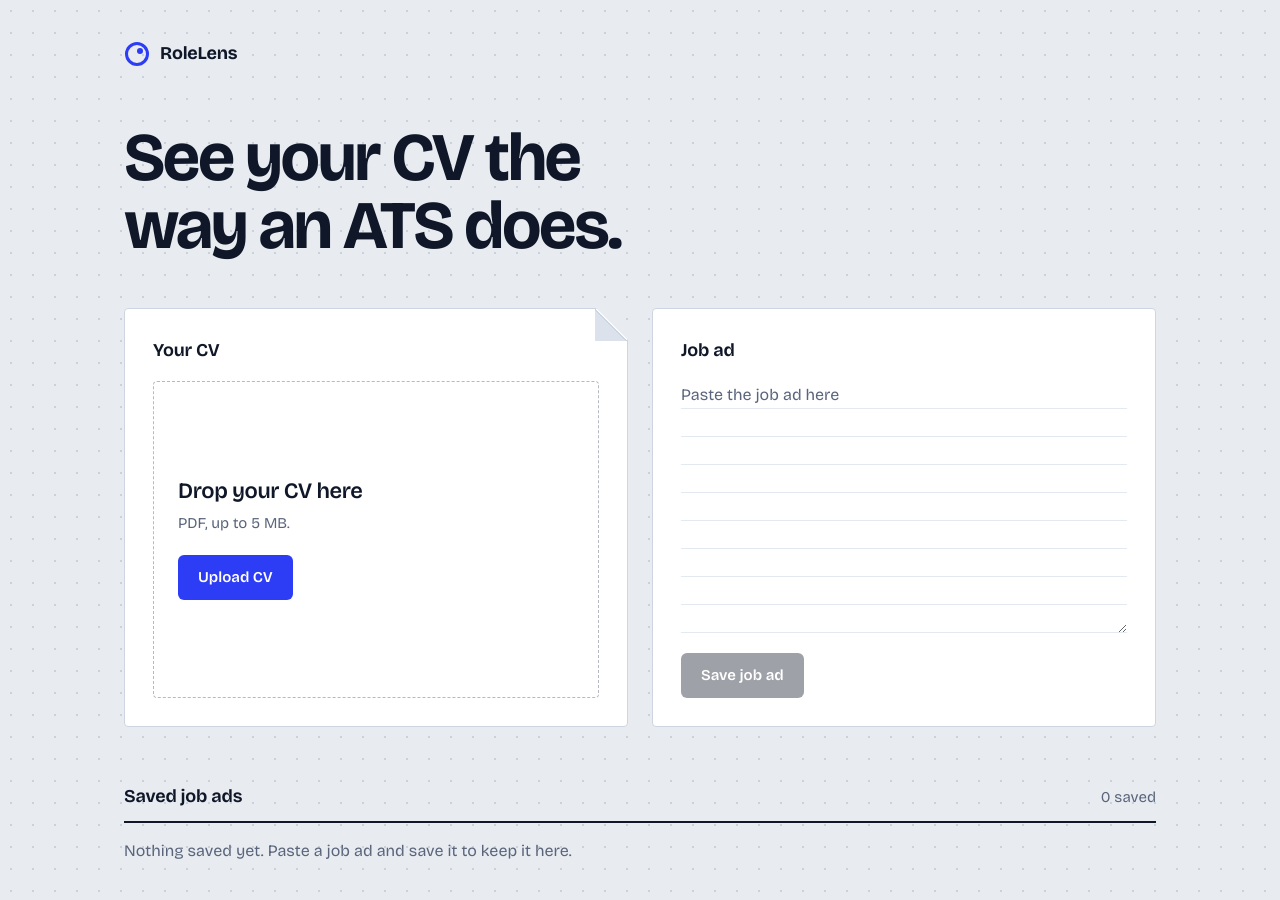
Scenario: saving a job ad › saves the trimmed text as a pasted ad, empties the box and reloads the list
This screenshot has width=1280, height=900.
Type "  Backend Engineer at Acme  " into the text box labelled "Job ad" at [904, 507], box left=681, top=381, right=1127, bottom=633
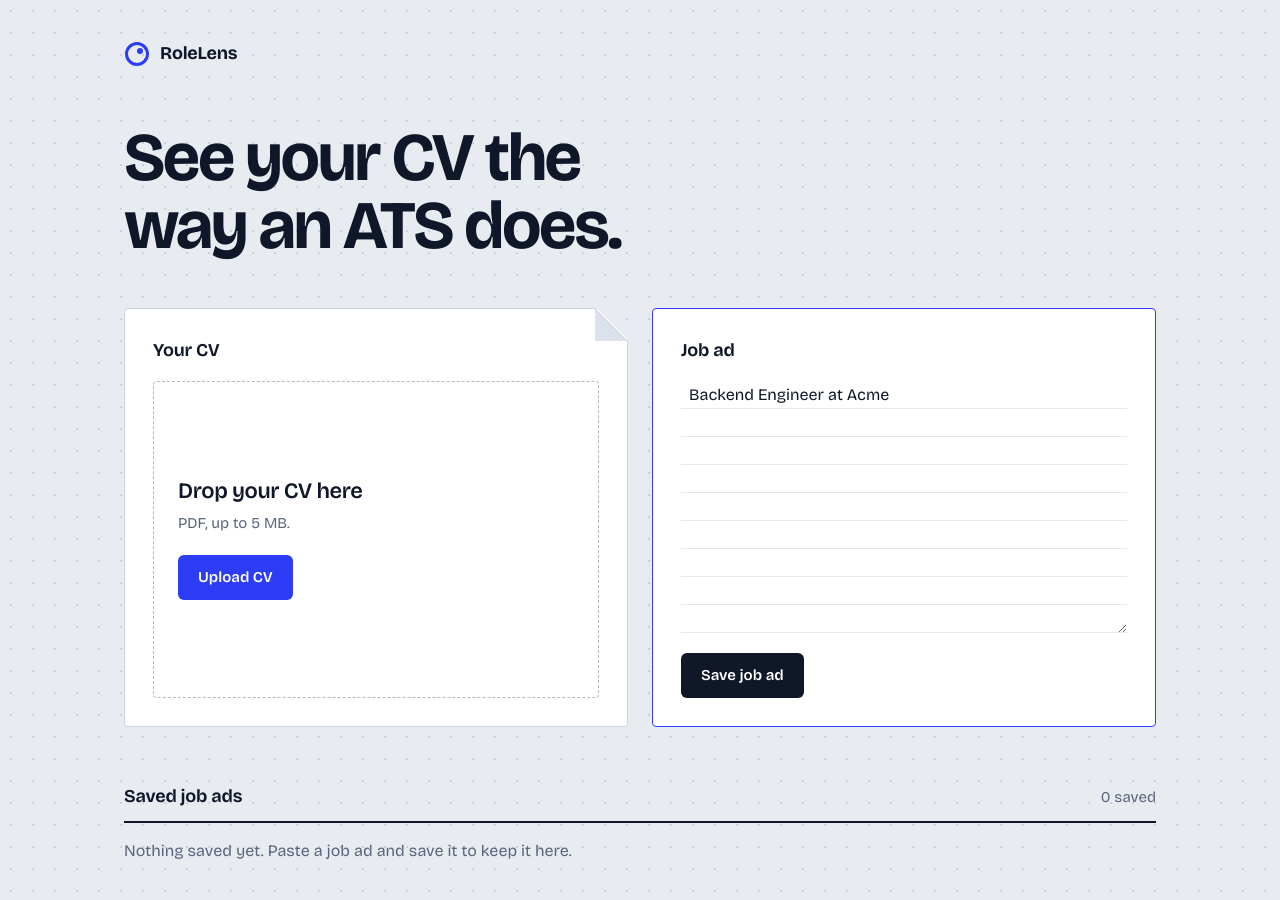
Click the button "Save job ad" at [742, 675], box left=681, top=653, right=804, bottom=698
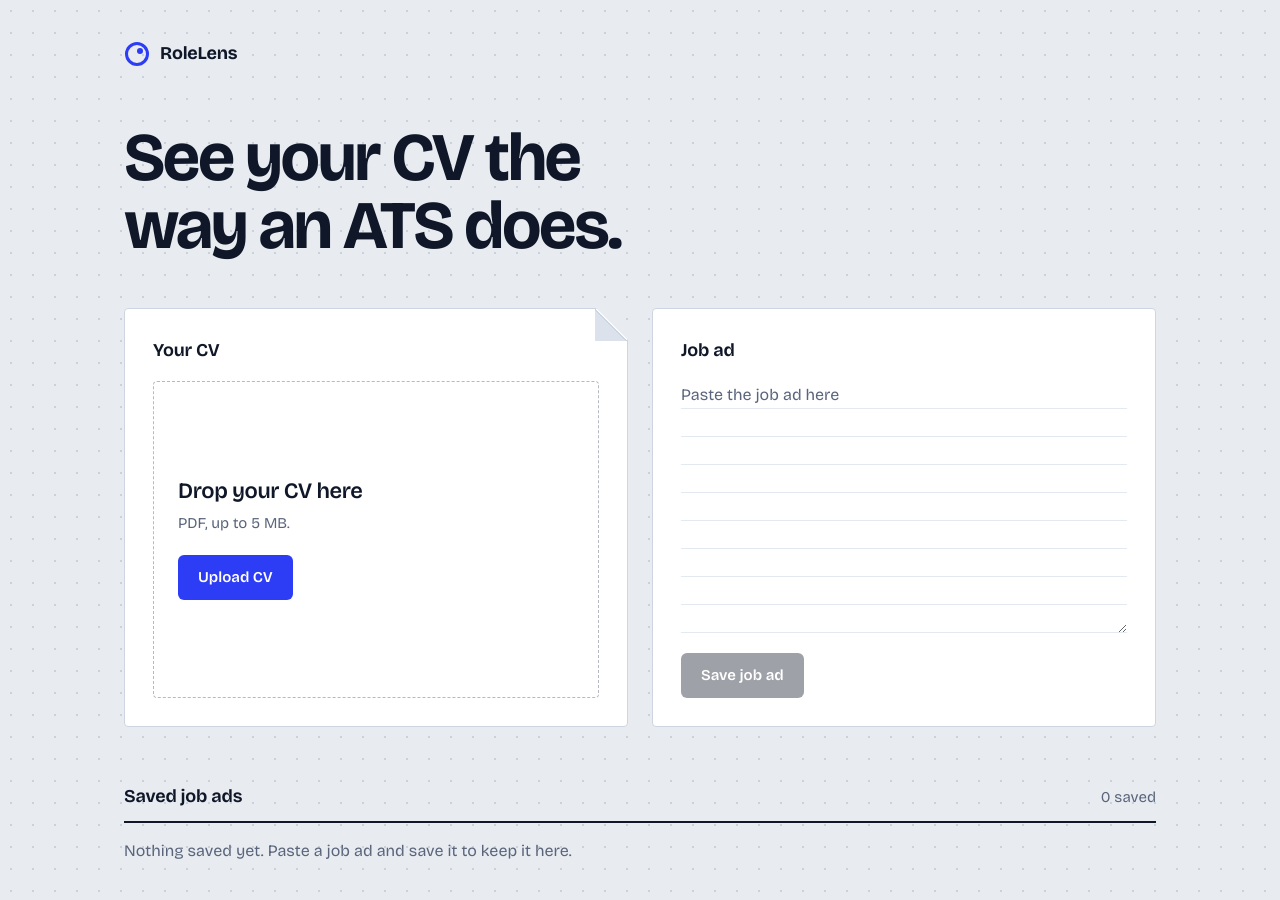
Expected: the text box labelled "Job ad" is empty, left=681, top=381, right=1127, bottom=633
